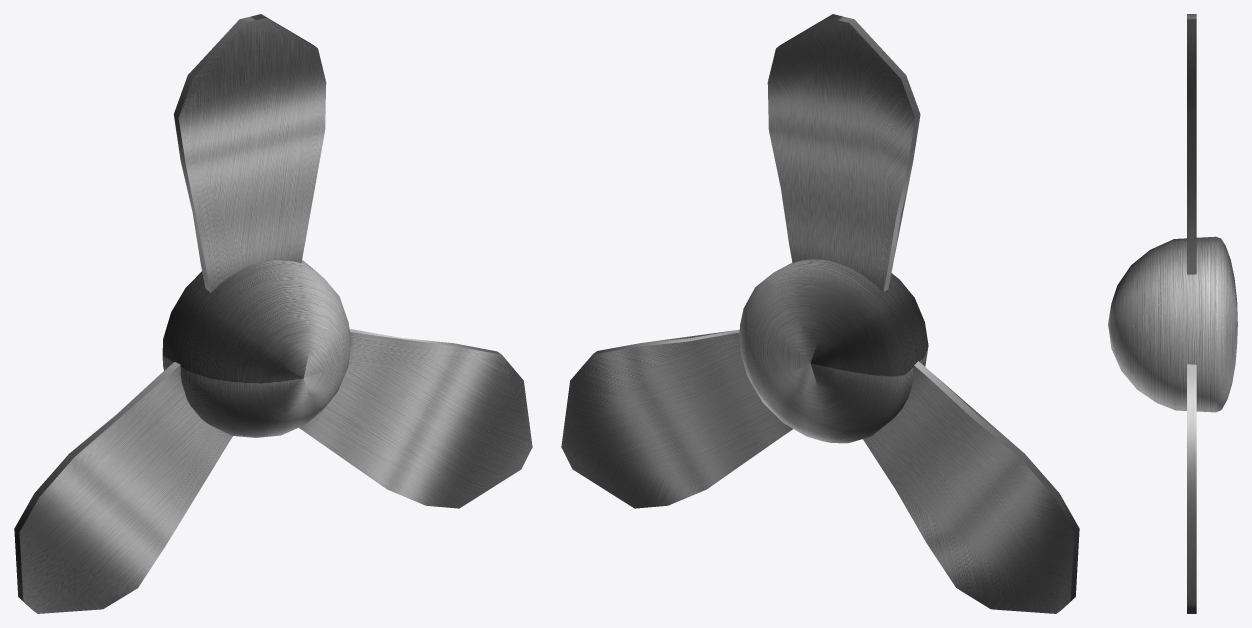
The model's file is SilverFan.obj.
The picture shows the model from 3 angles, left to right: view 1: azimuth 30°, elevation 25°; view 2: azimuth 150°, elevation 25°; view 3: azimuth 270°, elevation 25°; orthographic projection. The views are drawn at different scales.
Parts seen in each view (by area): view 1: GeoSphere001; view 2: GeoSphere001; view 3: GeoSphere001.
Boxes of the visible parts, <box> form: GeoSphere001: <box>14,14,532,613</box>; GeoSphere001: <box>561,14,1079,613</box>; GeoSphere001: <box>1108,14,1237,613</box>.
Bounding box in the file's own units: 16.99 × 17.46 × 4.03.
Materials: 1 (1 with a texture image).
